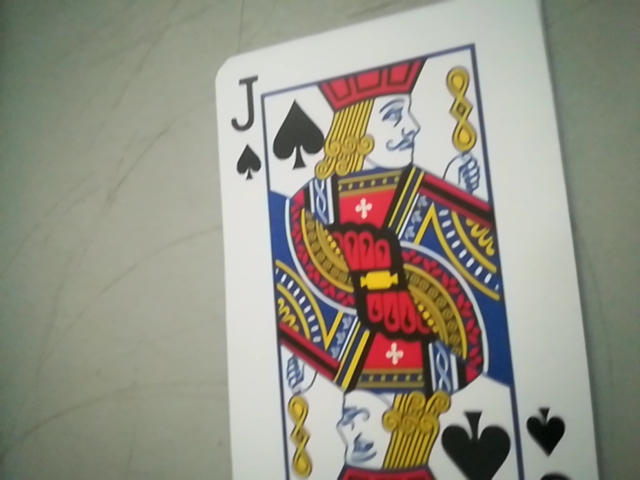ht j: (217, 68, 273, 188)
